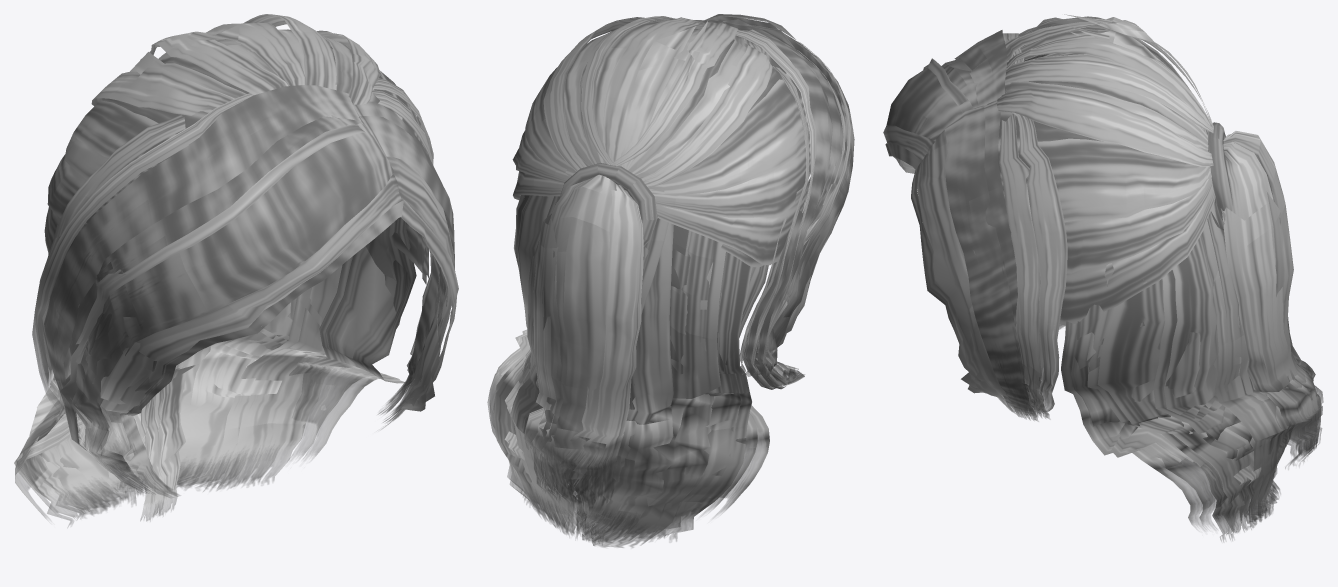
The model's file is daz_hair_low_chignon.glb.
3 views of the same model, side by side, from view 1: azimuth 30°, elevation 25°; view 2: azimuth 150°, elevation 25°; view 3: azimuth 270°, elevation 25° (orthographic). The views are drawn at different scales.
Parts seen in each view (by area): view 1: daz_hair_low_chignon; view 2: daz_hair_low_chignon; view 3: daz_hair_low_chignon.
Boxes of the visible parts, bbox=[...] form: daz_hair_low_chignon: bbox=[14, 14, 458, 526]; daz_hair_low_chignon: bbox=[487, 14, 854, 547]; daz_hair_low_chignon: bbox=[883, 14, 1323, 541].
Size of the model in its own units: 0.1802 by 0.2933 by 0.2275.
1 material, 1 textured.
